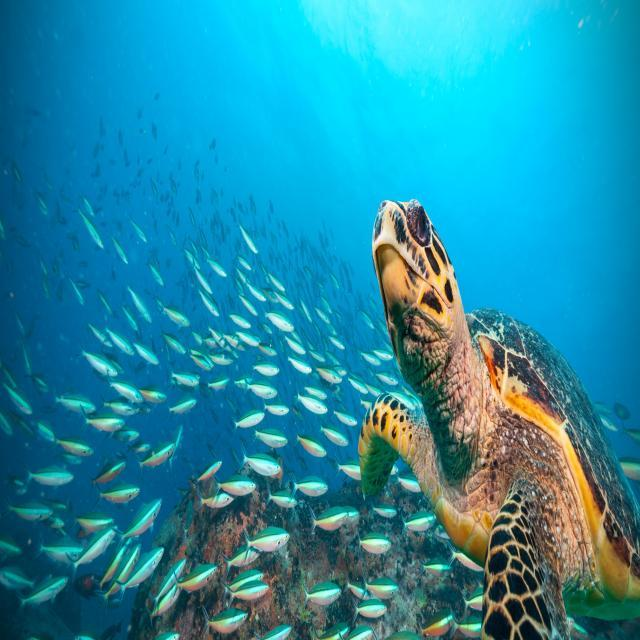Sea turtle: (361, 200, 640, 639)
